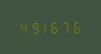four: (17, 20, 27, 34)
nine: (28, 20, 38, 34)
one: (40, 20, 50, 34)
seven: (62, 19, 72, 33)
six: (51, 19, 61, 33), (73, 19, 83, 33)
